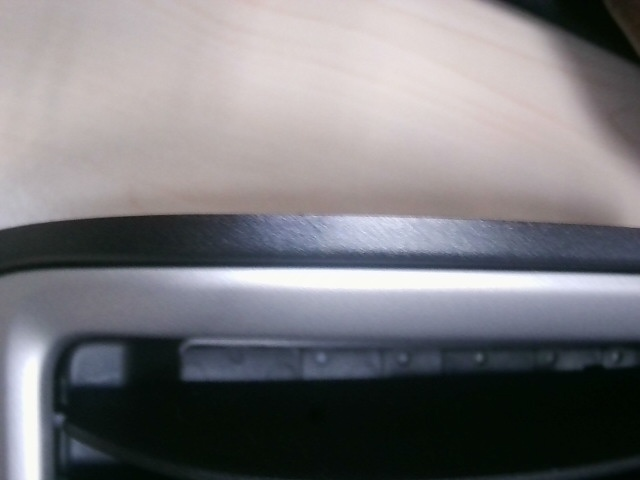NG: (297, 204, 327, 246)
